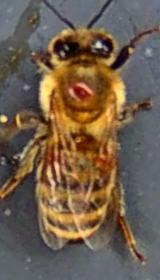varroa_mite: (66, 77, 96, 107)
